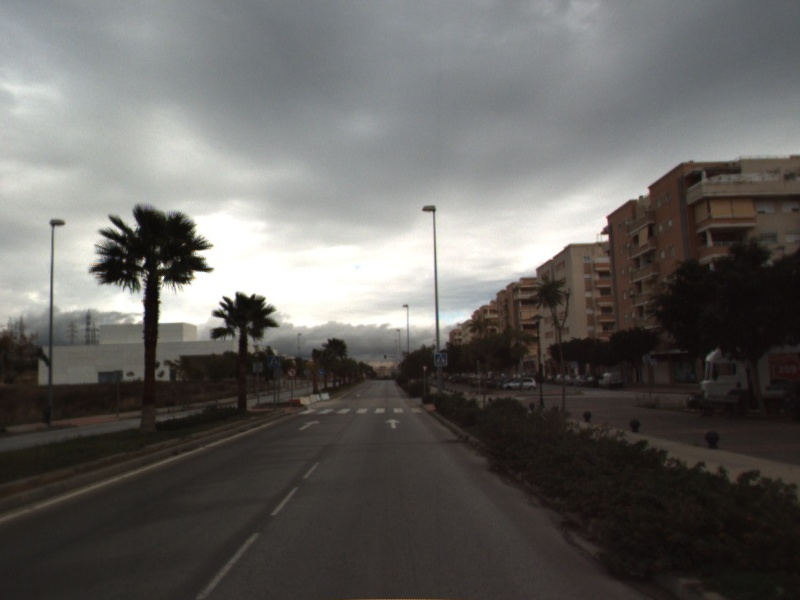STRAIGHT: (297, 418, 322, 432), (383, 416, 403, 430)
